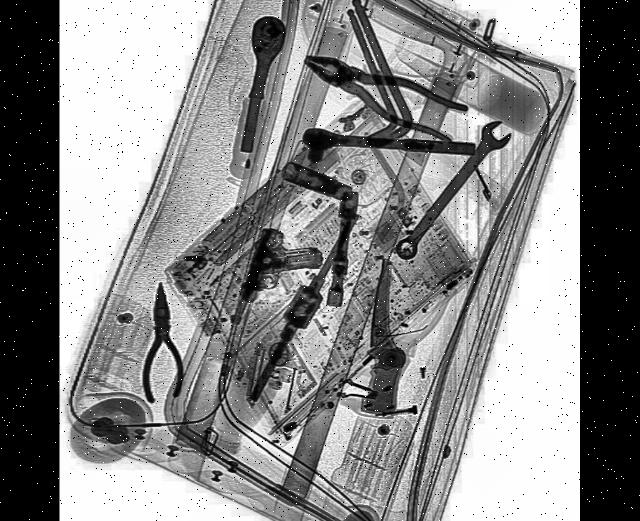Gun: (218, 219, 326, 406)
Pliers: (298, 37, 469, 150), (138, 278, 182, 403)
Wrench: (390, 108, 513, 268)
